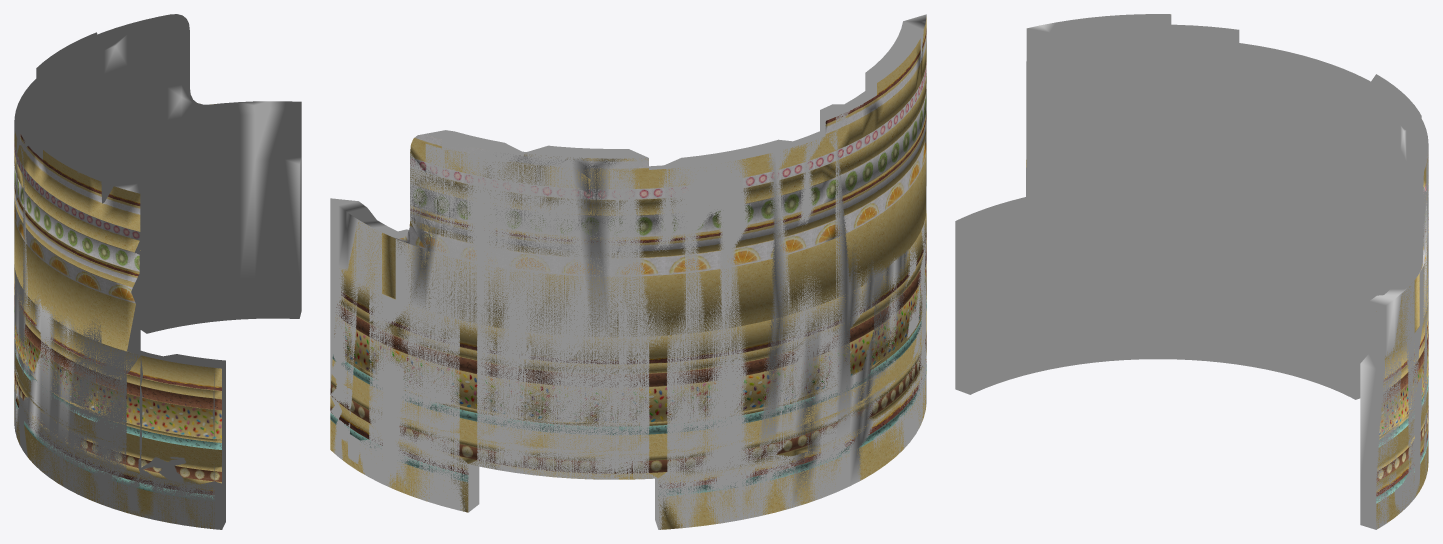
Rendered from stg210_drill_22.obj.
The picture shows the model from 3 angles, left to right: view 1: azimuth 30°, elevation 25°; view 2: azimuth 150°, elevation 25°; view 3: azimuth 270°, elevation 25°; orthographic projection. The views are drawn at different scales.
Parts seen in each view (by area): view 1: polygon0, polygon1, polygon2, polygon3; view 2: polygon0, polygon1, polygon2, polygon3; view 3: polygon0, polygon1, polygon2, polygon3.
Part boxes in pixels (x1,y1,x2,y2): polygon0: (14,14,301,529); polygon1: (14,14,221,529); polygon2: (14,103,221,500); polygon3: (14,306,221,439); polygon0: (330,14,926,529); polygon1: (330,17,926,529); polygon2: (330,62,926,496); polygon3: (334,261,926,422); polygon0: (955,14,1428,529); polygon1: (1026,145,1428,528); polygon2: (1376,178,1428,503); polygon3: (1379,341,1428,436).
Size of the model in its own units: 741 by 640 by 815.
